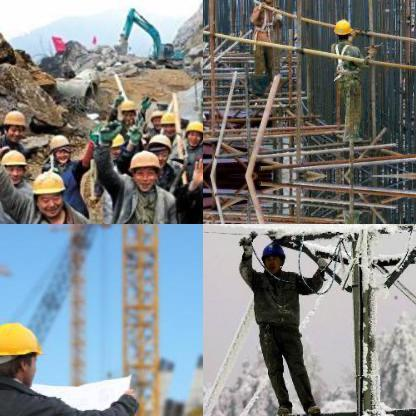Helmet: (0, 312, 46, 388), (30, 166, 66, 216), (126, 147, 160, 189), (256, 237, 284, 271), (0, 107, 26, 140), (0, 147, 25, 180), (145, 132, 173, 160), (182, 118, 202, 147), (101, 130, 123, 156), (50, 133, 70, 161), (118, 96, 138, 122), (158, 110, 178, 134), (332, 16, 352, 38)
